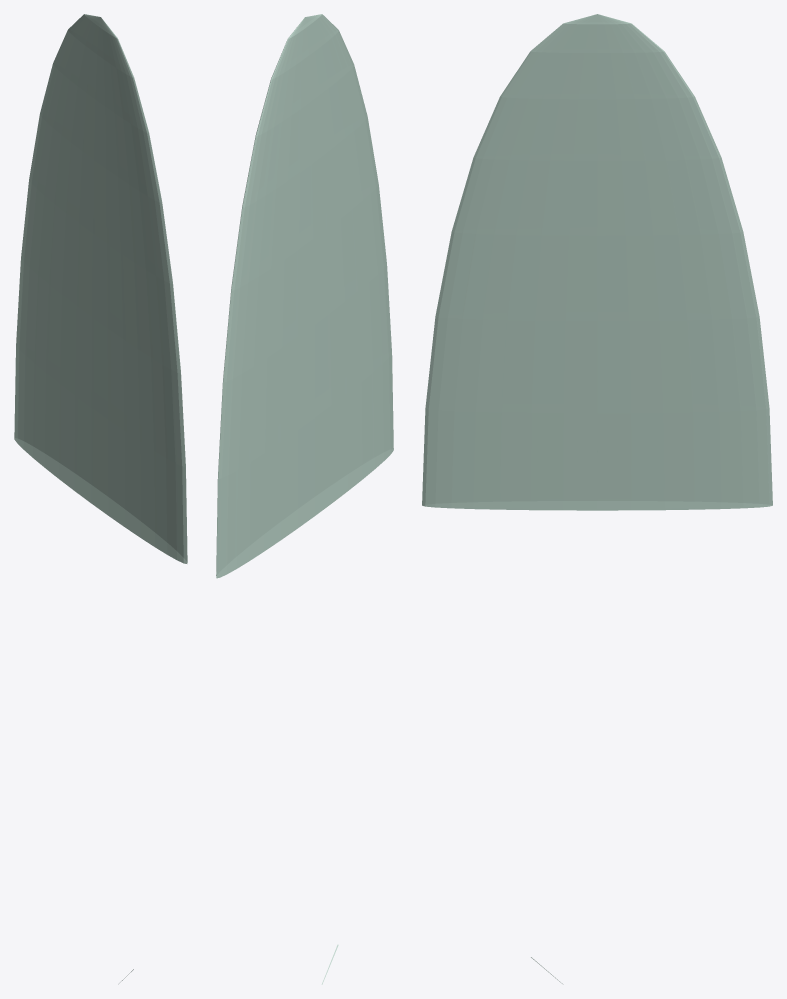
File: tor_innen.glb
3 renders of one model, left to right at view 1: azimuth 30°, elevation 25°; view 2: azimuth 150°, elevation 25°; view 3: azimuth 270°, elevation 25°, orthographic. The views are drawn at different scales.
Parts seen in each view (by area): view 1: Sphere; view 2: Sphere; view 3: Sphere.
Part boxes in pixels (box(x1,y1,x2,y2)): Sphere: box(14, 14, 187, 984); Sphere: box(216, 14, 393, 984); Sphere: box(422, 14, 772, 984).
Size of the model in its own units: 0.1309 by 6.11 by 2.
